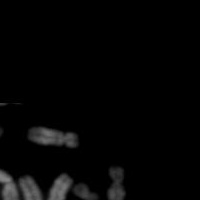chromosome: (18, 175, 63, 200), (29, 126, 79, 147), (105, 167, 126, 200), (47, 174, 73, 200), (0, 167, 19, 200), (73, 182, 99, 200), (0, 121, 3, 140)
